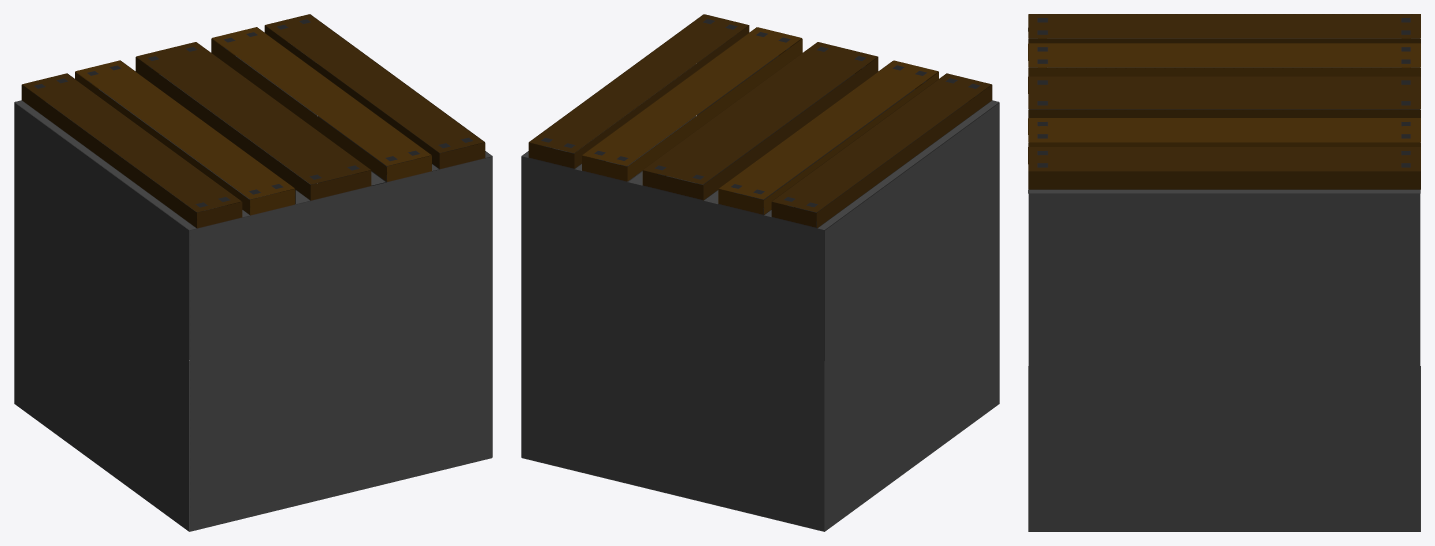
Rendered from CastleFloor.fbx.
3 renders of one model, left to right at view 1: azimuth 30°, elevation 25°; view 2: azimuth 150°, elevation 25°; view 3: azimuth 270°, elevation 25°, orthographic. The views are drawn at different scales.
Parts seen in each view (by area): view 1: Castle floor; view 2: Castle floor; view 3: Castle floor.
Boxes of the visible parts, box(x1,y1,x2,y2) form: Castle floor: box(14, 14, 492, 531); Castle floor: box(521, 14, 999, 531); Castle floor: box(1028, 14, 1420, 531).
Size of the model in its own units: 400 by 400 by 400.
